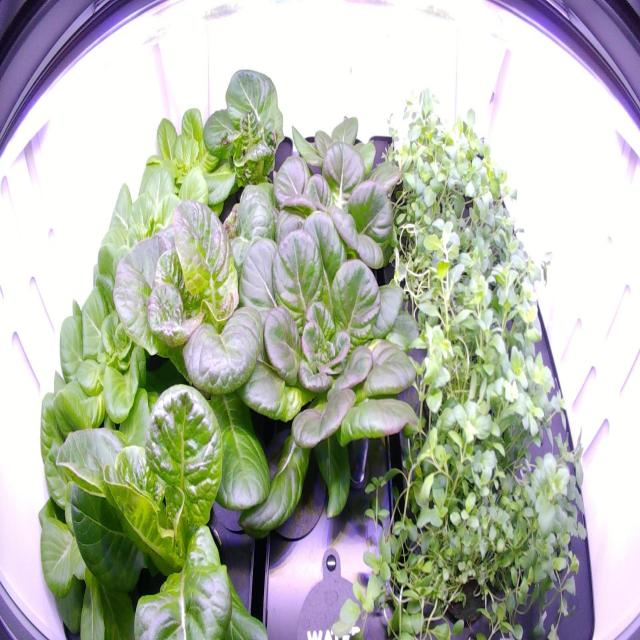Ready: (215, 194, 443, 520), (54, 330, 284, 640), (108, 171, 274, 423), (244, 135, 406, 307)
young: (27, 400, 181, 640), (36, 247, 196, 466), (79, 156, 222, 340), (198, 58, 295, 230), (134, 96, 241, 238), (275, 103, 406, 210)
